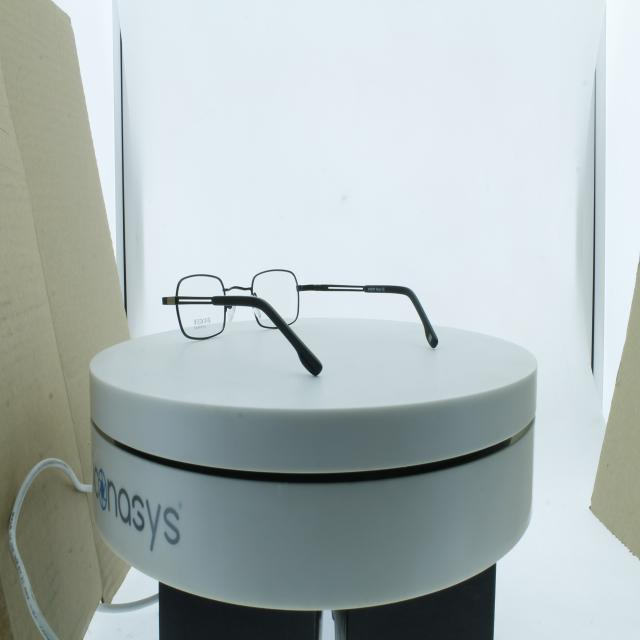Specs: (154, 243, 466, 391)
